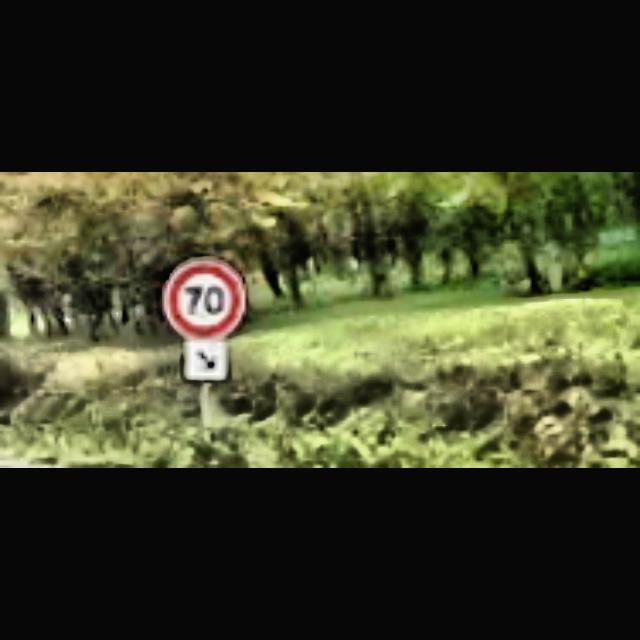speed_70: (162, 258, 248, 342)
